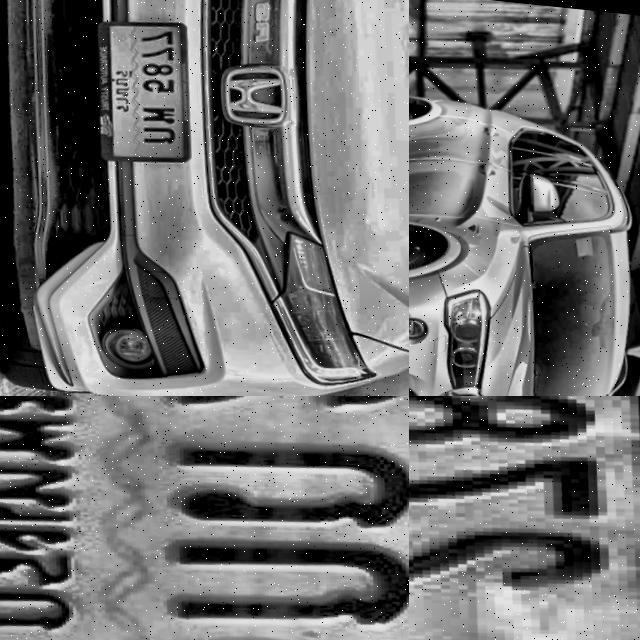license-plate: (0, 396, 409, 640), (409, 396, 640, 640), (86, 7, 205, 168)
